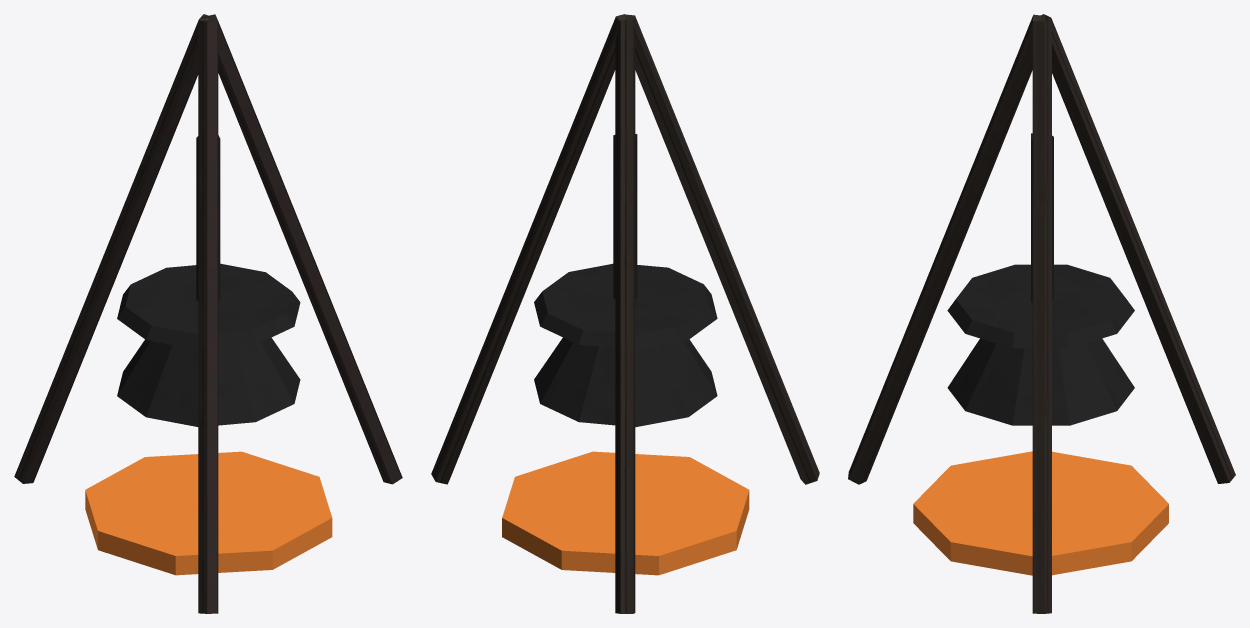
Rendered from kitchen_pot_01.glb.
The picture shows the model from 3 angles, left to right: view 1: azimuth 30°, elevation 25°; view 2: azimuth 150°, elevation 25°; view 3: azimuth 270°, elevation 25°; orthographic projection.
Visible parts, largest first — view 1: kitchen_pot_01; view 2: kitchen_pot_01; view 3: kitchen_pot_01.
Part boxes in pixels (bbox=[...]): kitchen_pot_01: bbox=[14, 14, 402, 613]; kitchen_pot_01: bbox=[431, 14, 819, 613]; kitchen_pot_01: bbox=[848, 14, 1235, 613].
Size of the model in its own units: 0.8223 by 1.32 by 0.9098.
3 materials, 2 textured.
